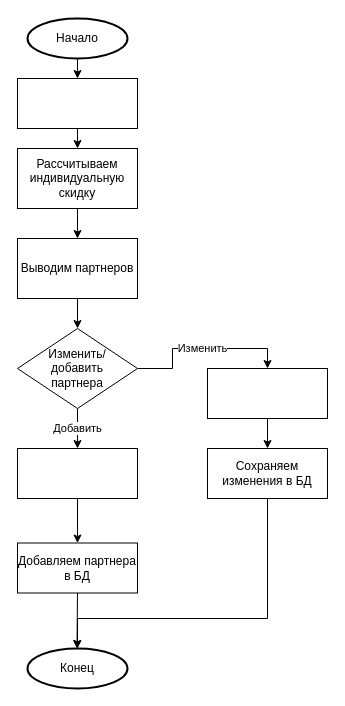
Image size: 345x706. Some labels were removed from this diagram. Here are the shapes that lost their labels. From the top down, the centre of each, then its label:
point 77,103: Запрашиваем партнеров из БД
point 267,393: Обновляем данные партнера
point 77,473: Вводим данные нового парнера
